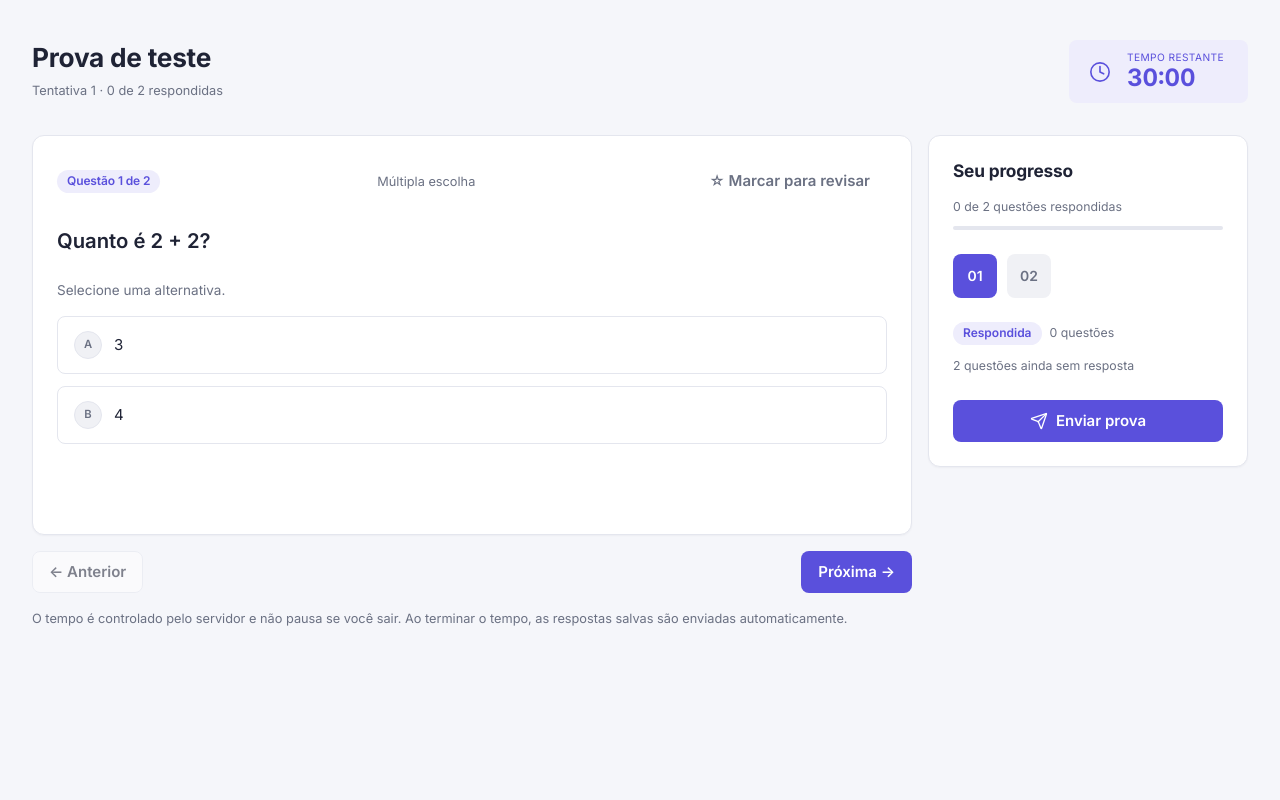
Test case: ExecucaoProva › salva automaticamente ao marcar uma alternativa
Click the radio button labelled "B 4" at (88, 415), box [74,401,102,429]
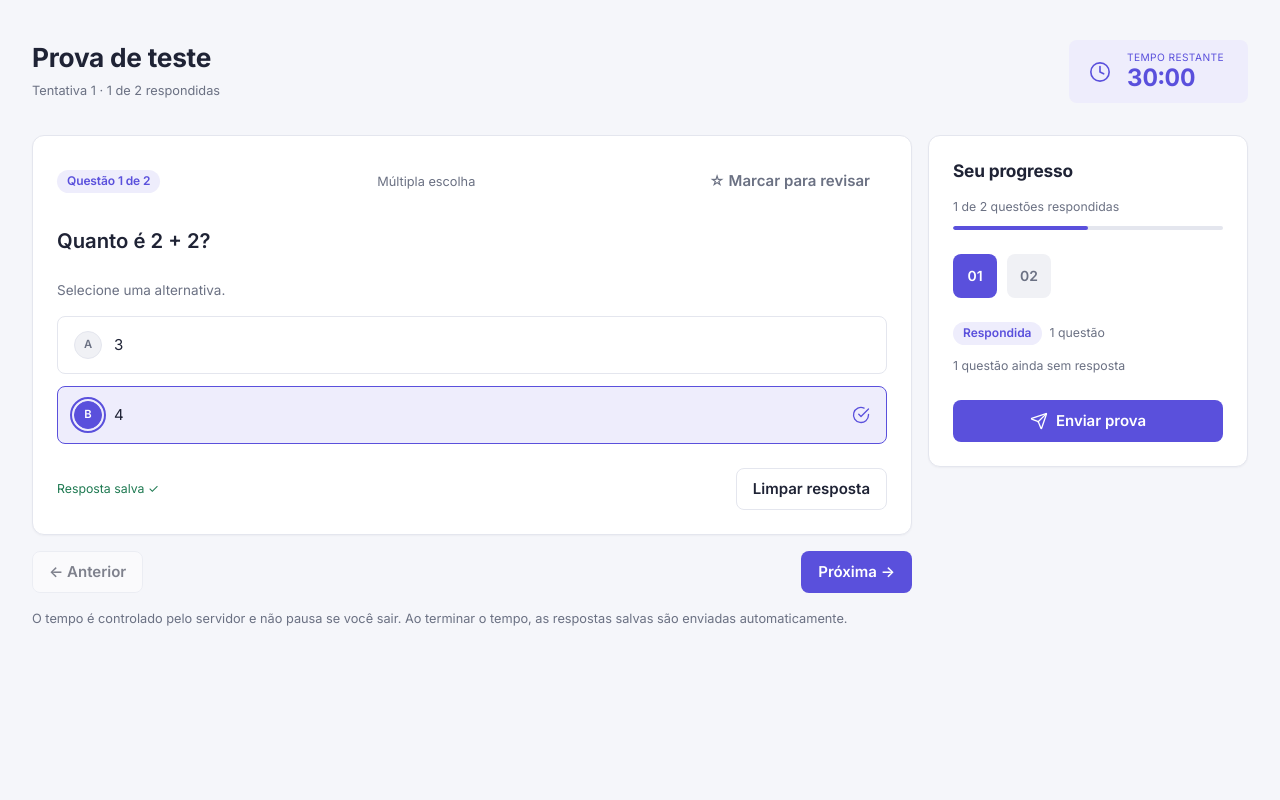
Check: the text "Resposta salva ✓" is shown, box [57,480,159,498]
